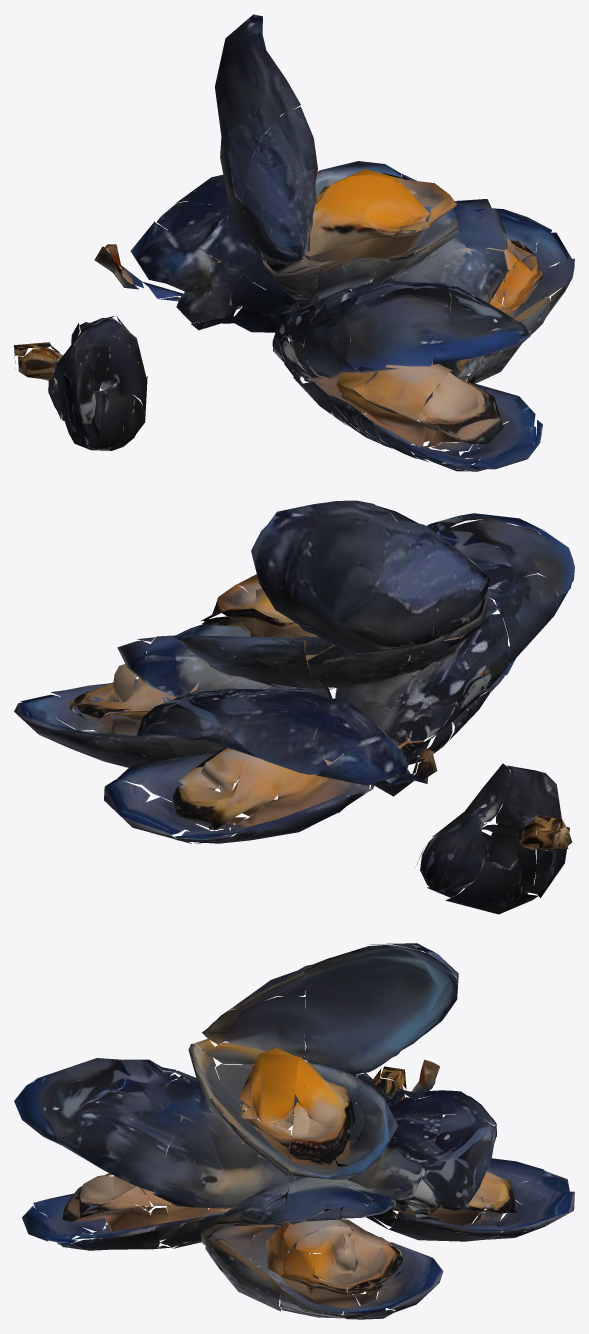
Rendered from mussels_boiled.glb.
3 views of the same model, one above another, from view 1: azimuth 30°, elevation 25°; view 2: azimuth 150°, elevation 25°; view 3: azimuth 270°, elevation 25° (orthographic). The views are drawn at different scales.
Parts seen in each view (by area): view 1: tripo_node_073c28bb-13e1-43b0-ae2d-f279791185e1; view 2: tripo_node_073c28bb-13e1-43b0-ae2d-f279791185e1; view 3: tripo_node_073c28bb-13e1-43b0-ae2d-f279791185e1.
Boxes of the visible parts, left/top/right/bottom form: tripo_node_073c28bb-13e1-43b0-ae2d-f279791185e1: left=14, top=14, right=574, bottom=471; tripo_node_073c28bb-13e1-43b0-ae2d-f279791185e1: left=14, top=500, right=574, bottom=914; tripo_node_073c28bb-13e1-43b0-ae2d-f279791185e1: left=14, top=943, right=574, bottom=1319.
Size of the model in its own units: 0.9934 by 0.6294 by 0.9974.
Materials: 1 (1 with a texture image).
